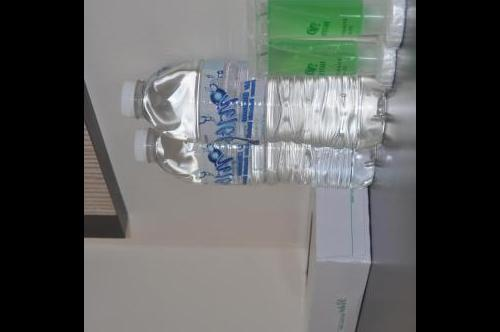bottle: (115, 54, 392, 156), (128, 105, 384, 193)
